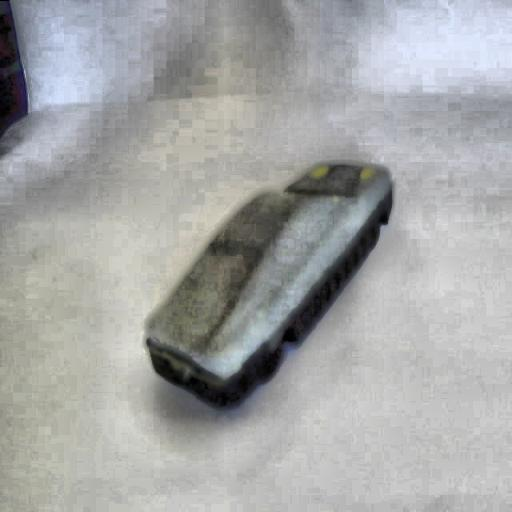normal_car: (140, 160, 394, 414)
